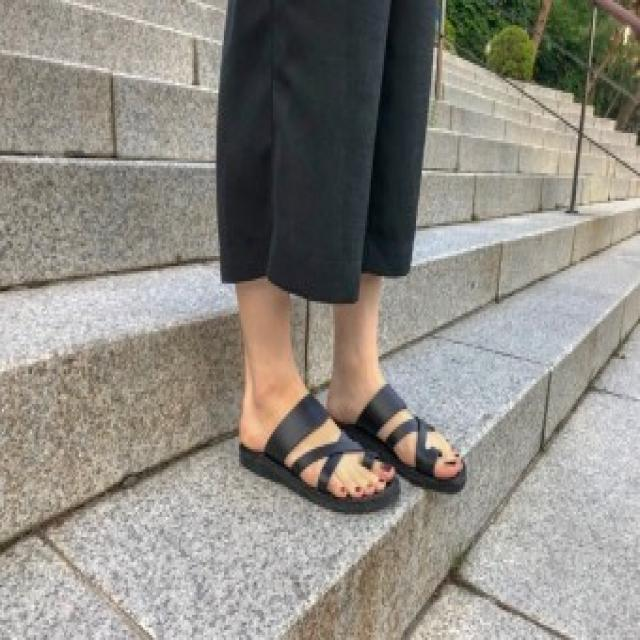no-boots: (216, 399, 403, 557), (329, 361, 465, 497)
